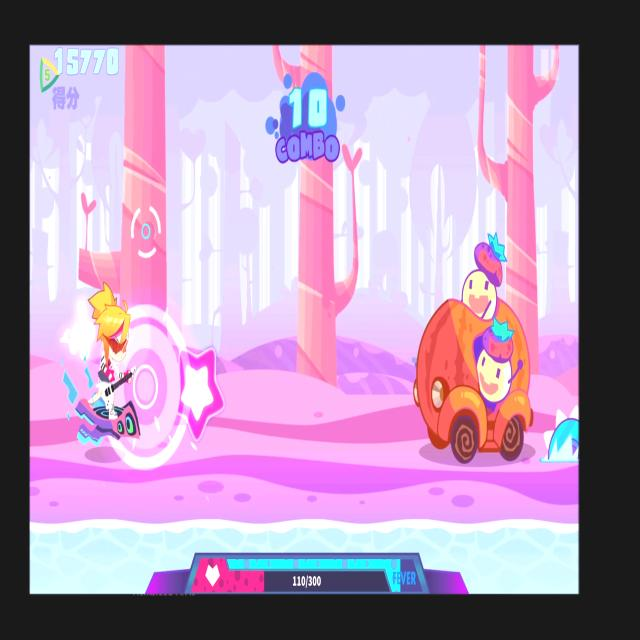Boss-Pumpkin: (410, 229, 532, 468)
Sky Monster - Gear: (540, 391, 580, 475)
Sustained - Star: (175, 339, 227, 447)
